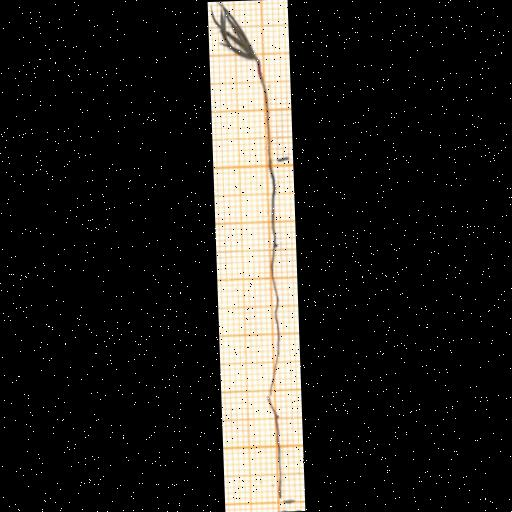flowerPinus: (211, 2, 258, 61)
rootPinus: (270, 168, 280, 395)
stemPinus: (258, 60, 272, 171)
